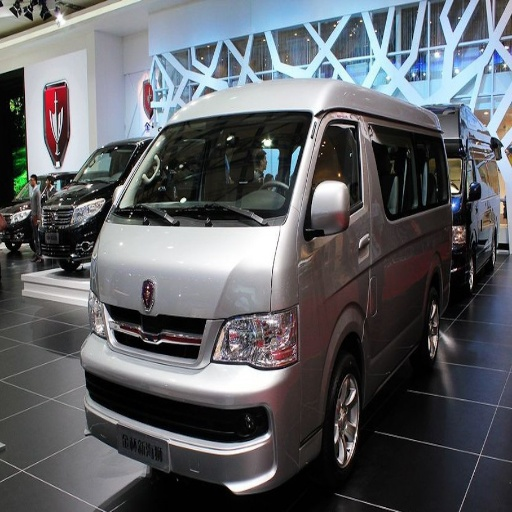front_bumper: (82, 303, 326, 495)
front_glass: (117, 115, 310, 224)
front_left_door: (303, 114, 403, 355)
